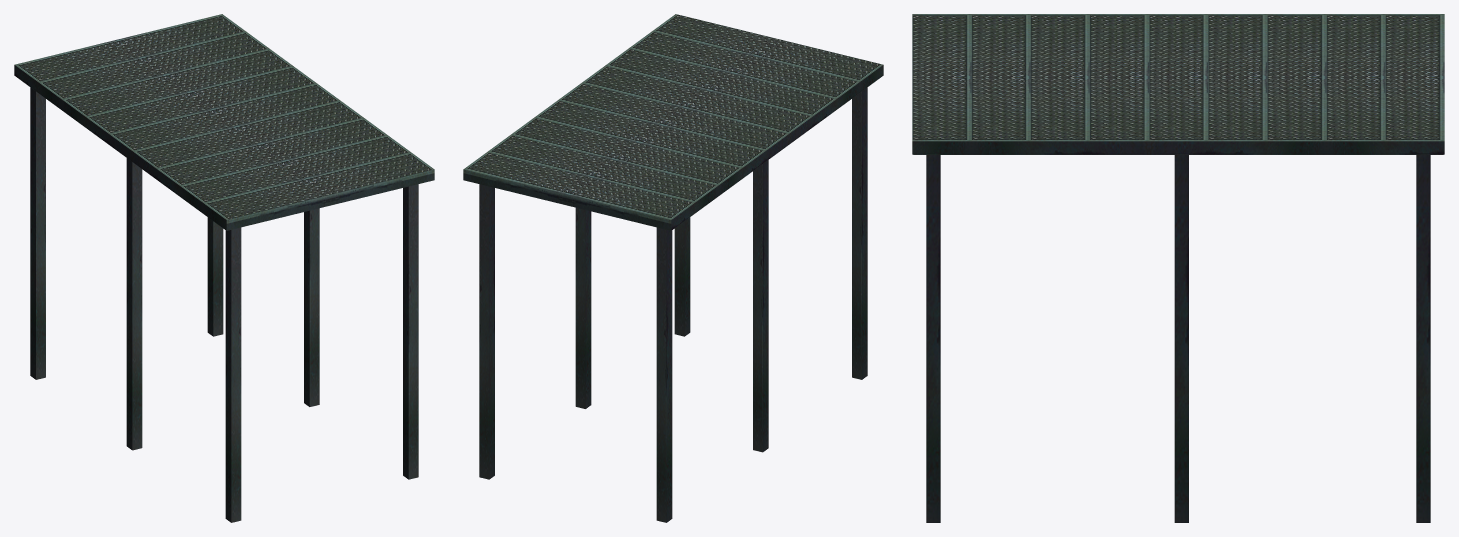
File: yw_museyulin_zoudao01.FBX
The picture shows the model from 3 angles, left to right: view 1: azimuth 30°, elevation 25°; view 2: azimuth 150°, elevation 25°; view 3: azimuth 270°, elevation 25°; orthographic projection. The views are drawn at different scales.
Visible parts, largest first — view 1: yw_museyulin_zoudao01; view 2: yw_museyulin_zoudao01; view 3: yw_museyulin_zoudao01.
Boxes of the visible parts, bbox=[...] form: yw_museyulin_zoudao01: bbox=[14, 14, 434, 522]; yw_museyulin_zoudao01: bbox=[463, 14, 883, 522]; yw_museyulin_zoudao01: bbox=[912, 14, 1444, 522].
Size of the model in its own units: 258 by 367 by 456.
